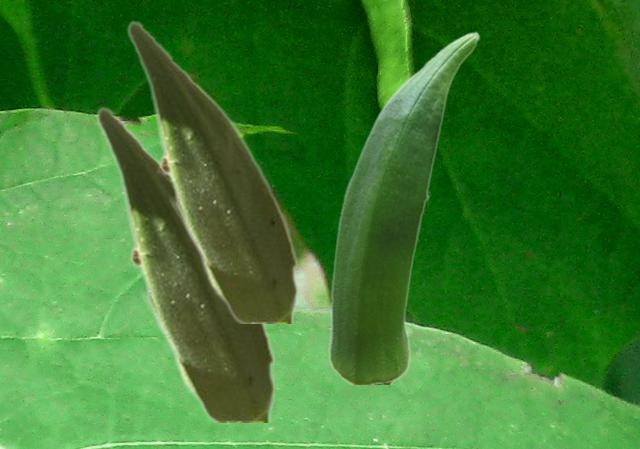okra: (95, 105, 273, 421), (327, 31, 479, 383), (126, 19, 296, 322)
